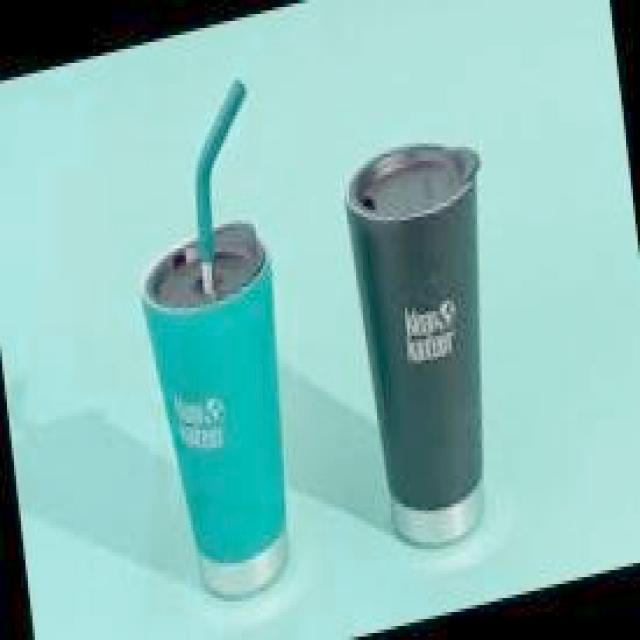bottle: (110, 70, 318, 619), (332, 115, 522, 563)
